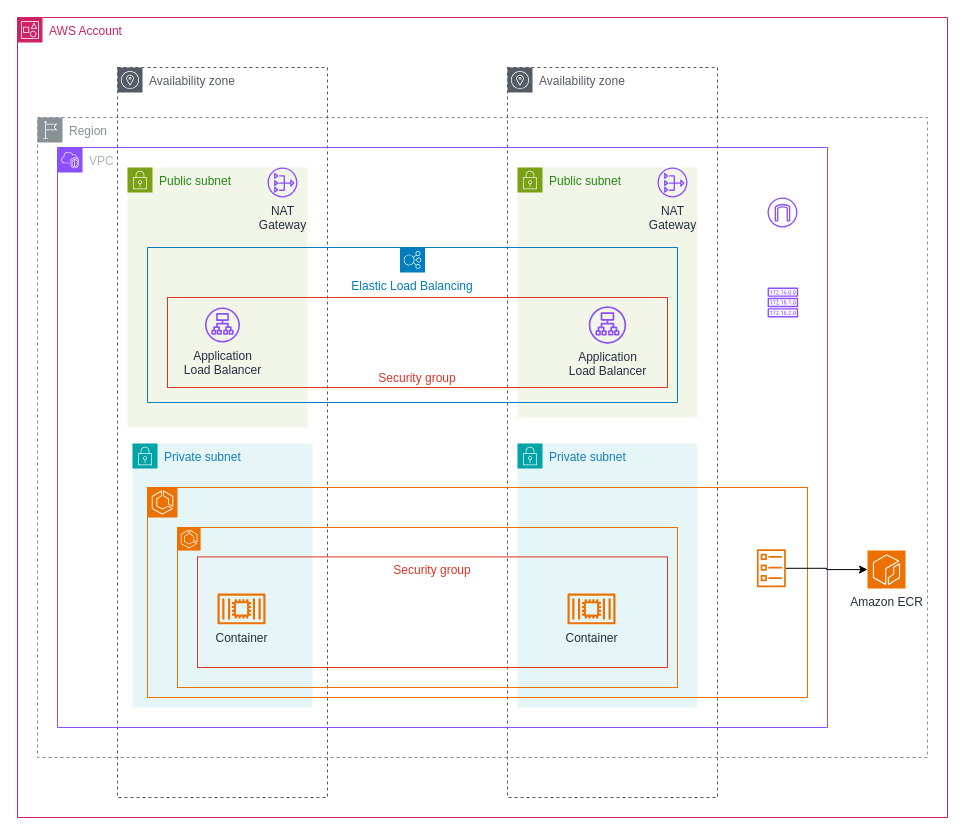
The diagram is 965 pixels wide and 835 high, and some of its shapes have lost their labels. The shapes that lost their labels are listed below. From the top down, each one's centre as x and y in pixels, then its label:
(x=782, y=212): Internet Gateway
(x=782, y=302): Route Table
(x=162, y=502): ECS Cluster (Fargate)
(x=188, y=538): ECS Service
(x=771, y=568): ECS Task Definition
